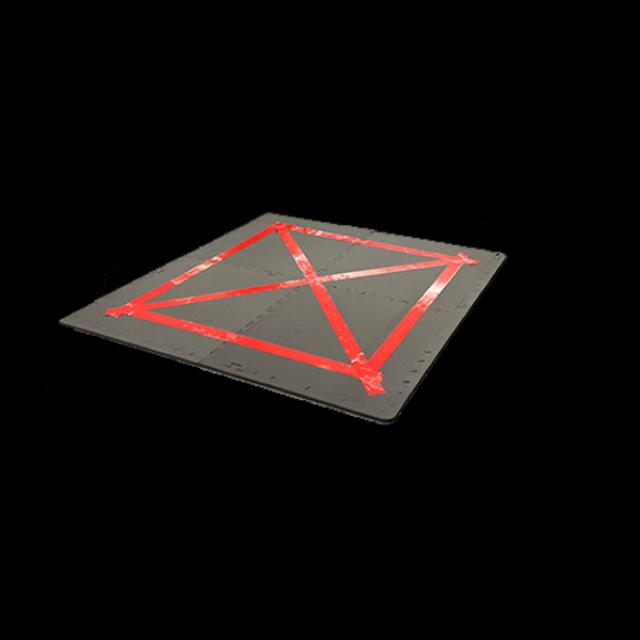landingPads: (57, 211, 521, 425)
